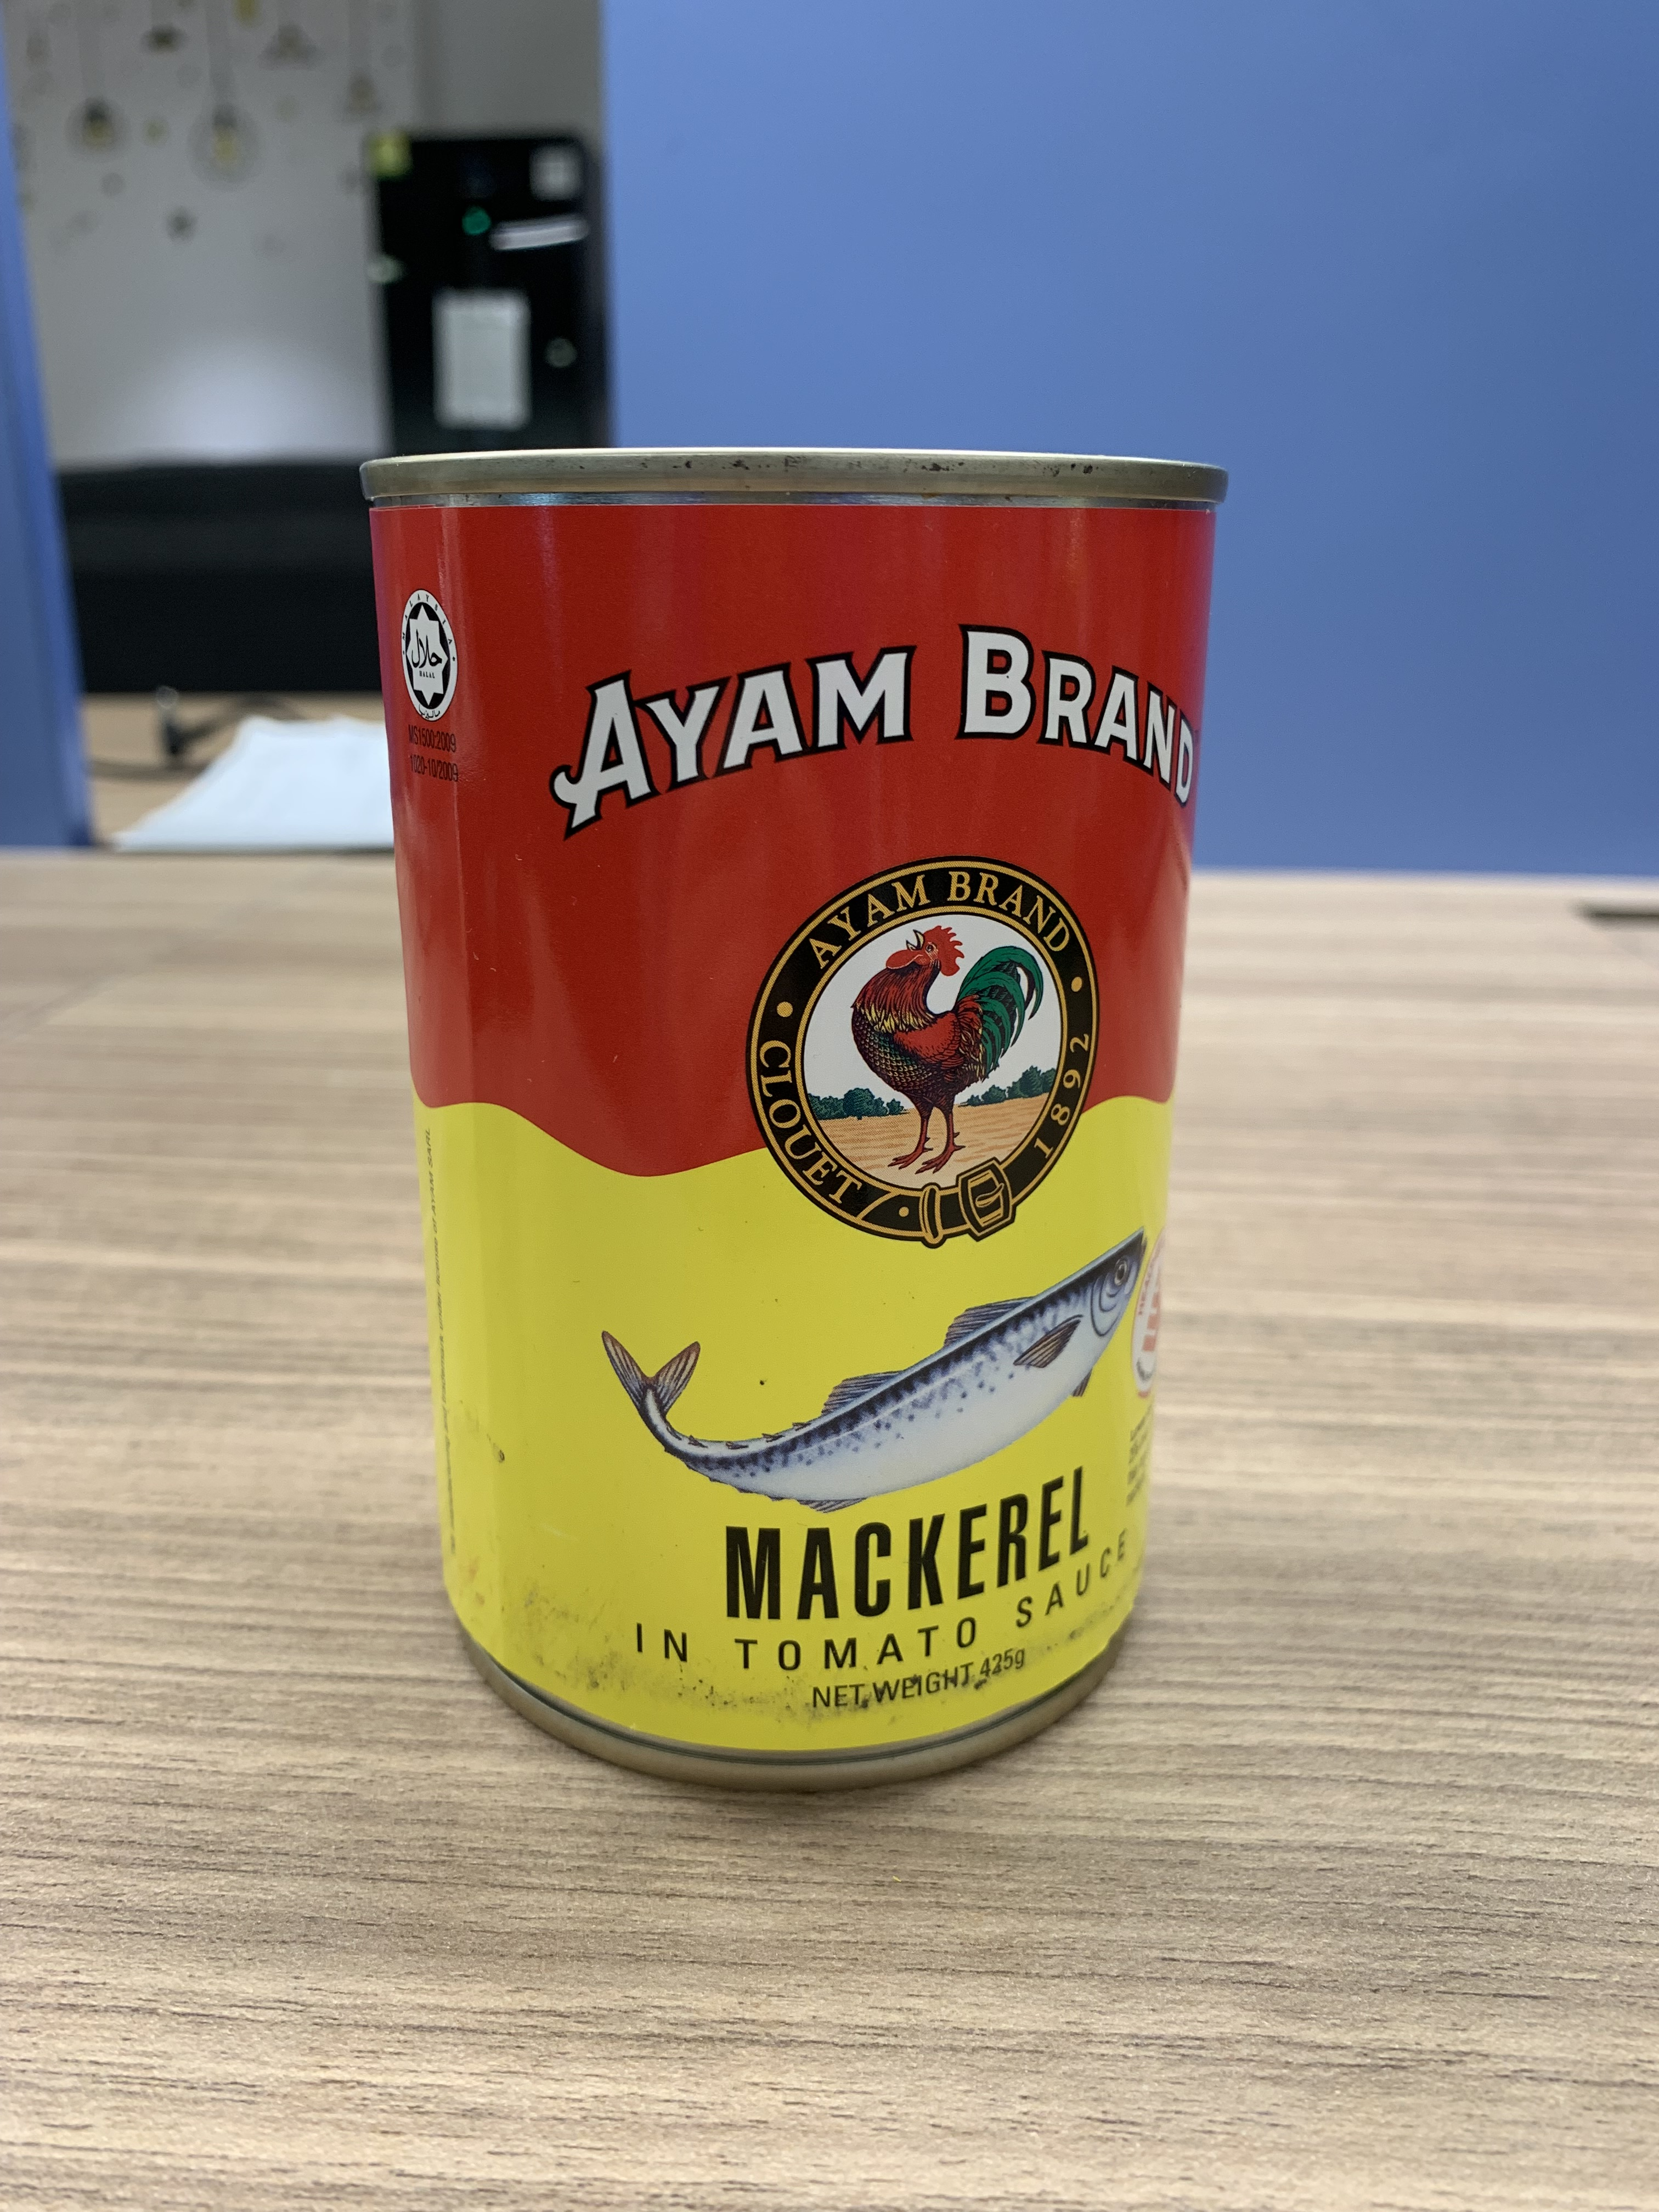sardines_400g-499g: (554, 547, 1180, 1730)
